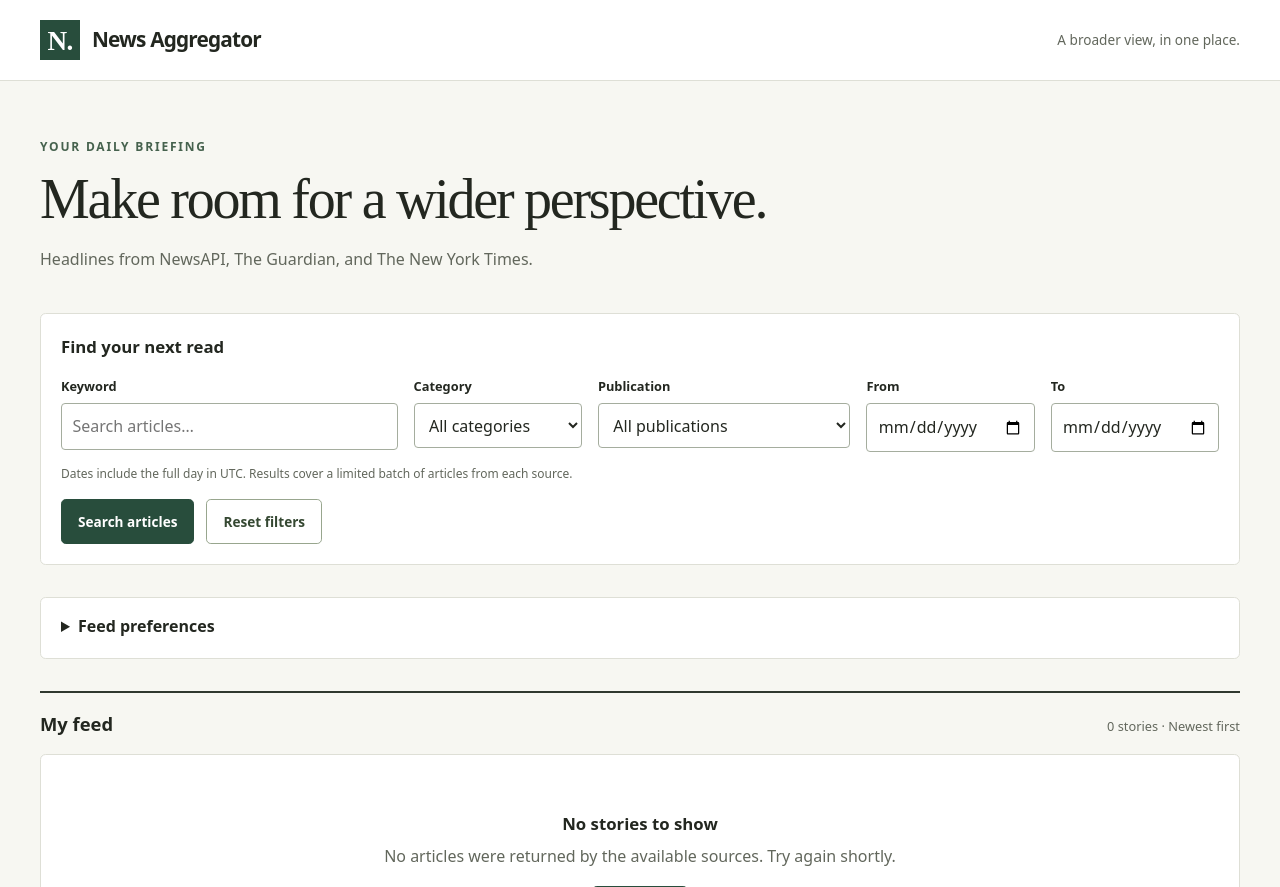
Test: waits for submission and passes combined filters with trimmed keywords
This screenshot has width=1280, height=887.
In the search field labelled "Keyword": (229, 427) [61,403,398,450], type "  space & science  "
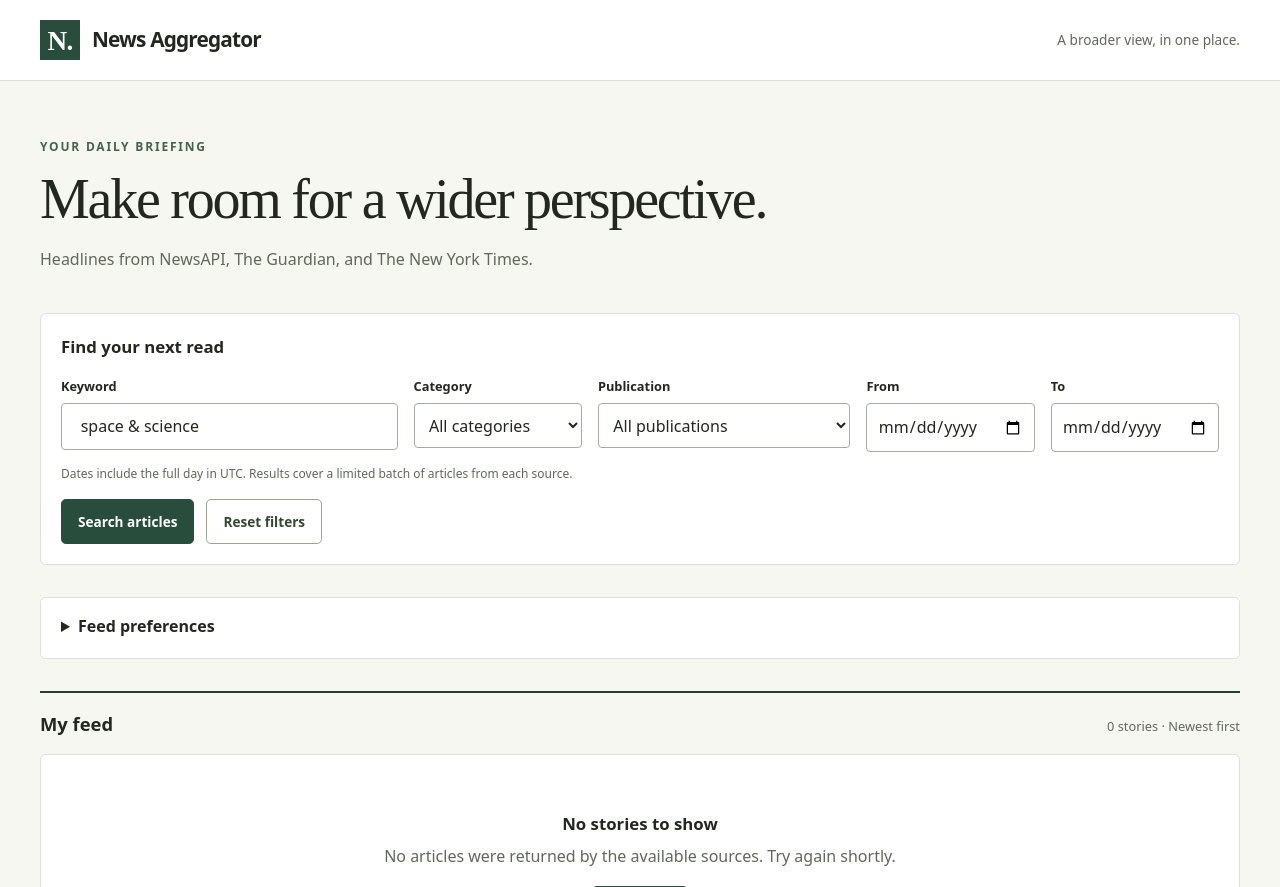
Select "Science" in the dropdown labelled "Category": (498, 426) [414,403,582,448]
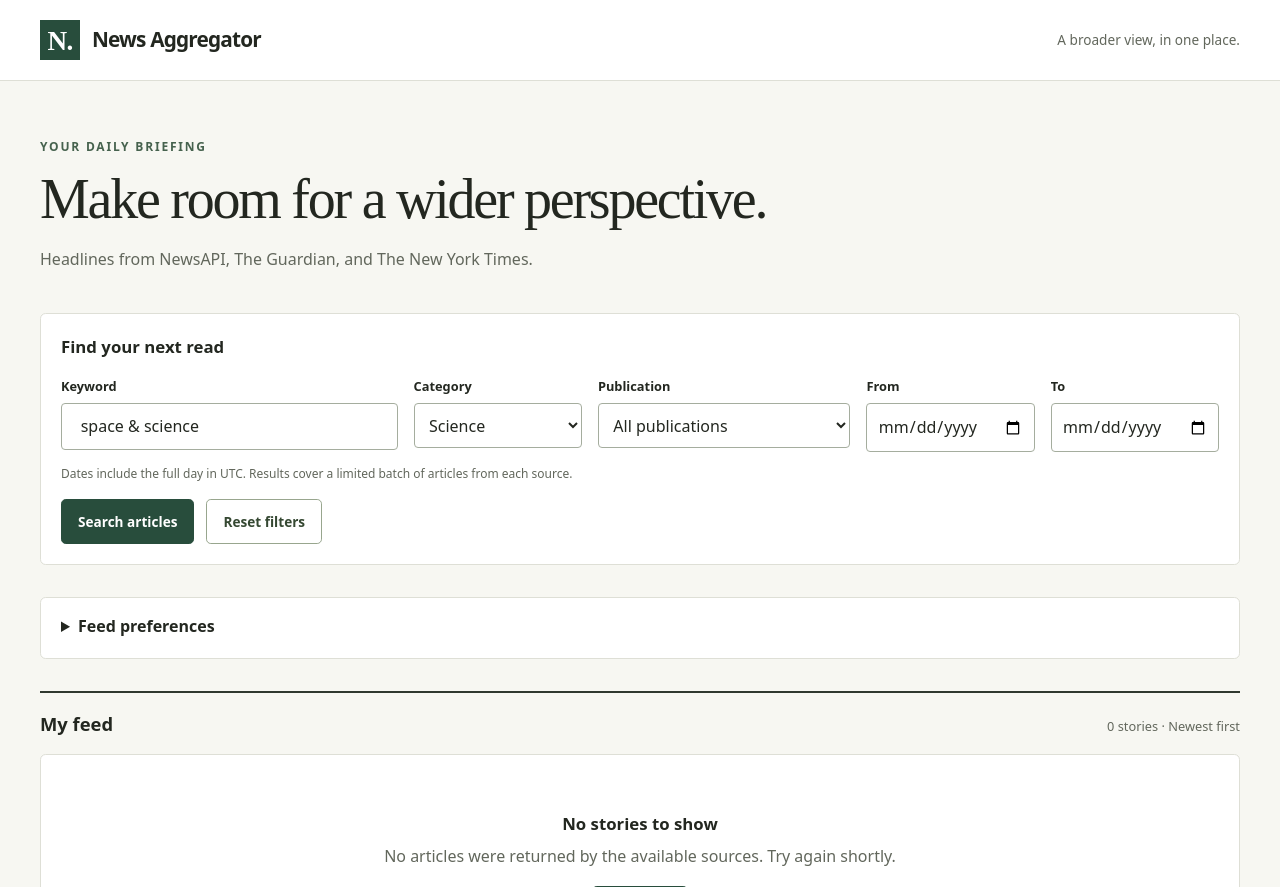
Select "BBC News (via NewsAPI)" in the dropdown labelled "Publication": (724, 426) [598,403,850,448]
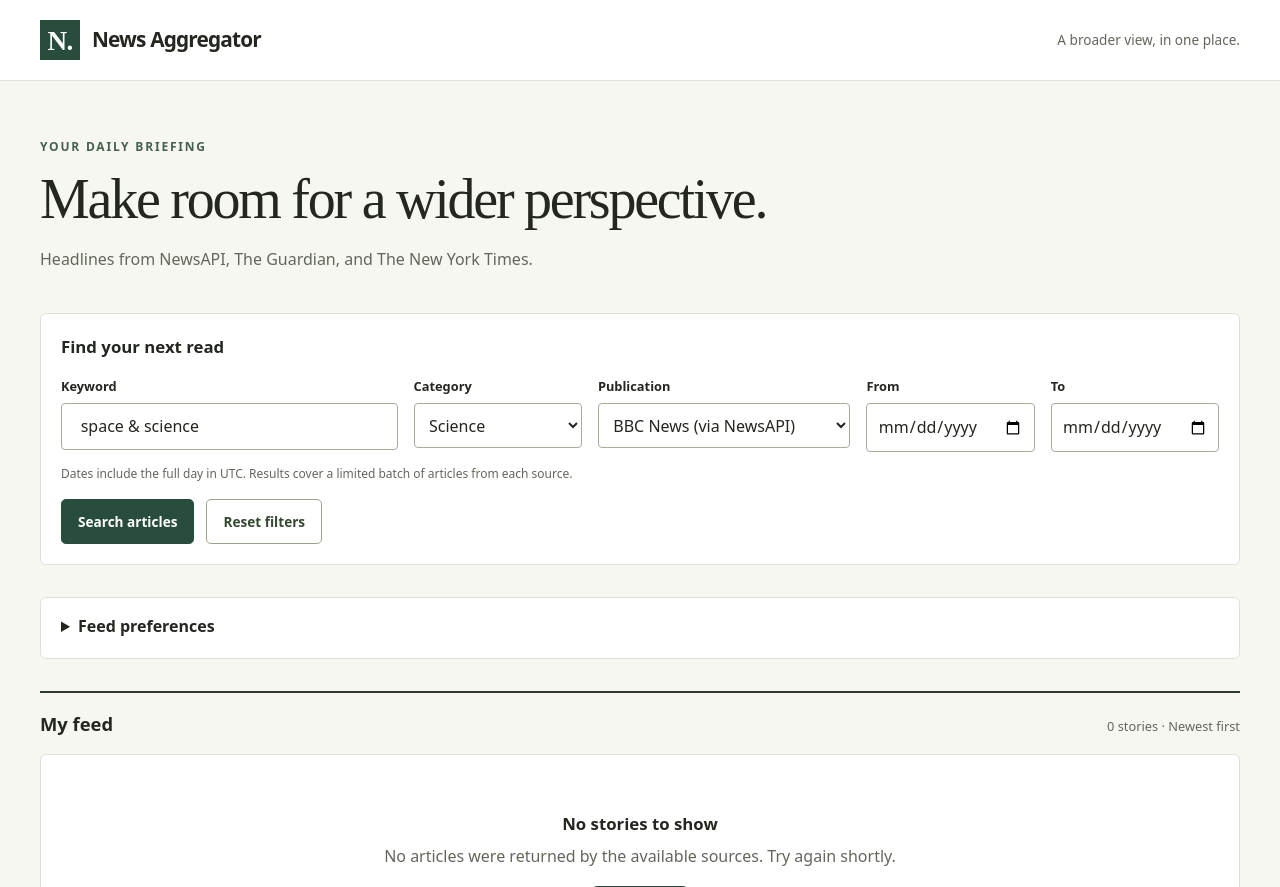
In the date field labelled "From": (951, 428) [866,403,1035,452], type "2026-10-01"
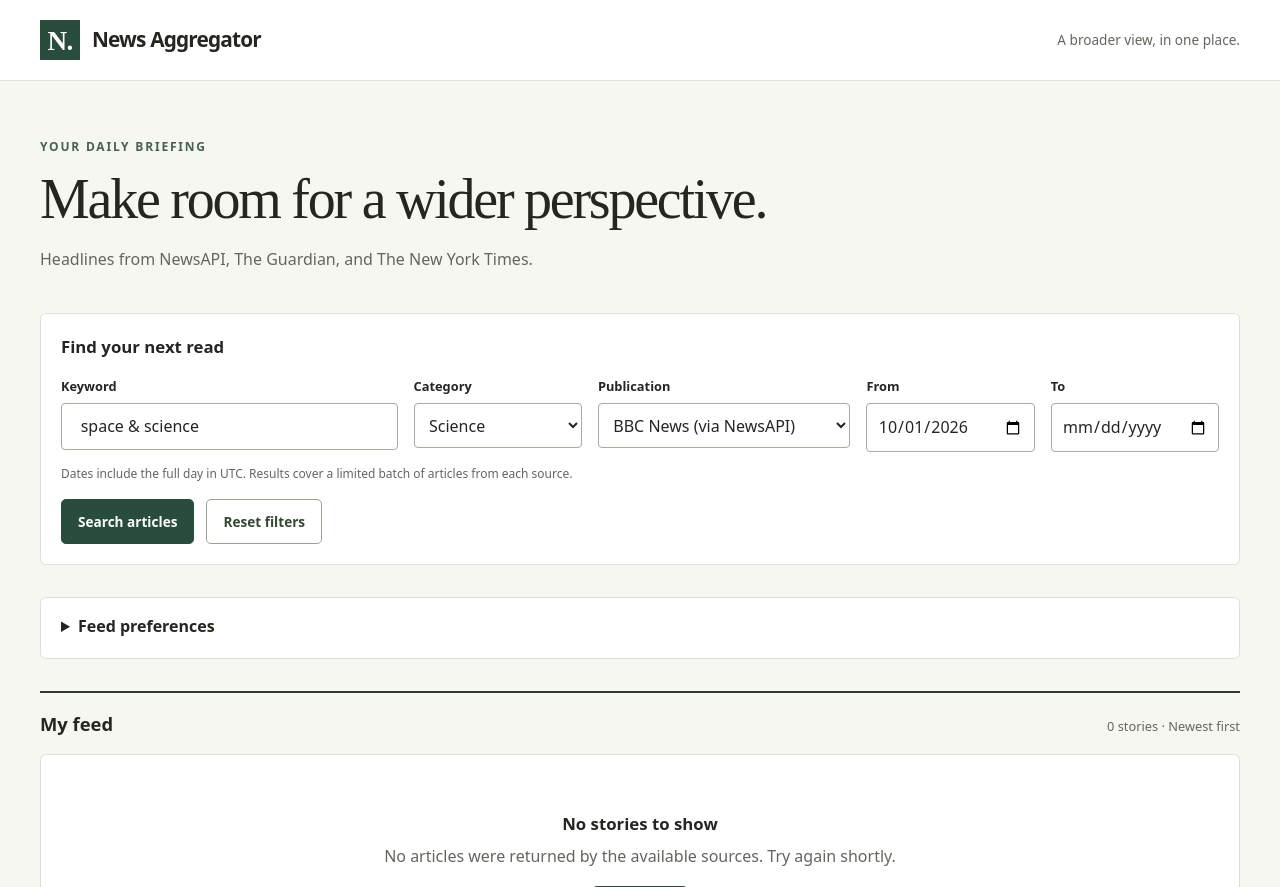
In the date field labelled "To": (1135, 428) [1051,403,1219,452], type "2026-10-14"
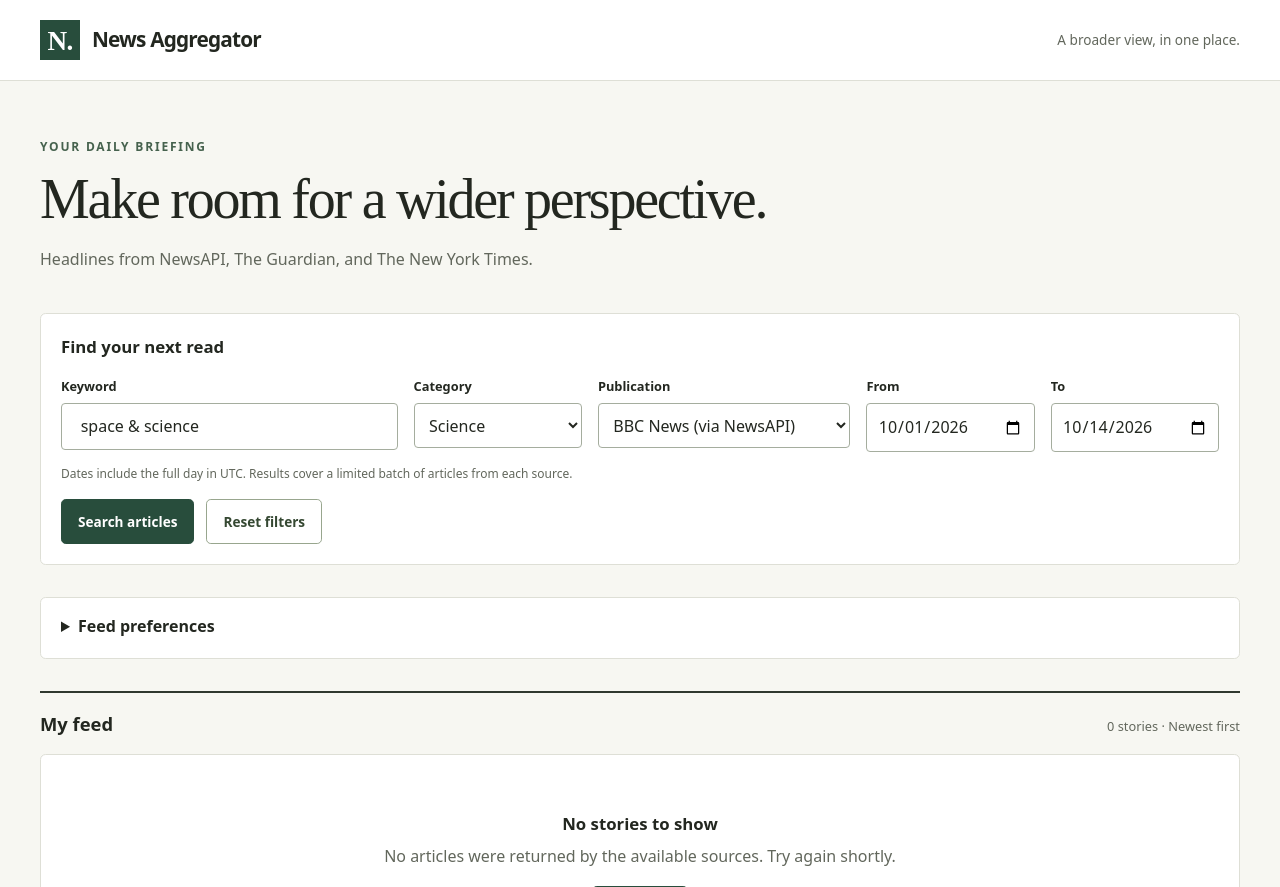
Click the button "Search articles": (128, 521) [61,499,194,544]
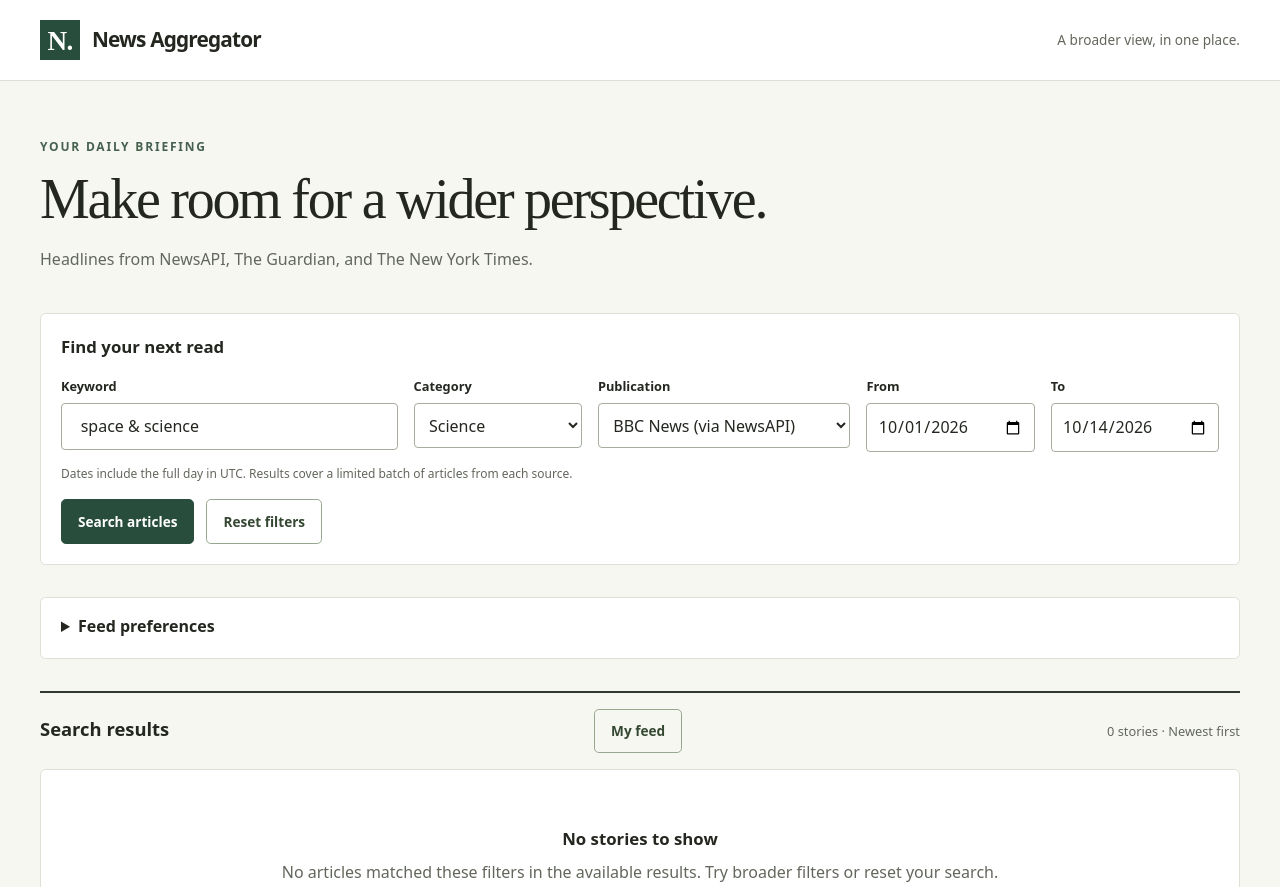
Expected: the heading "Search results" is shown, [40,714,169,744]
